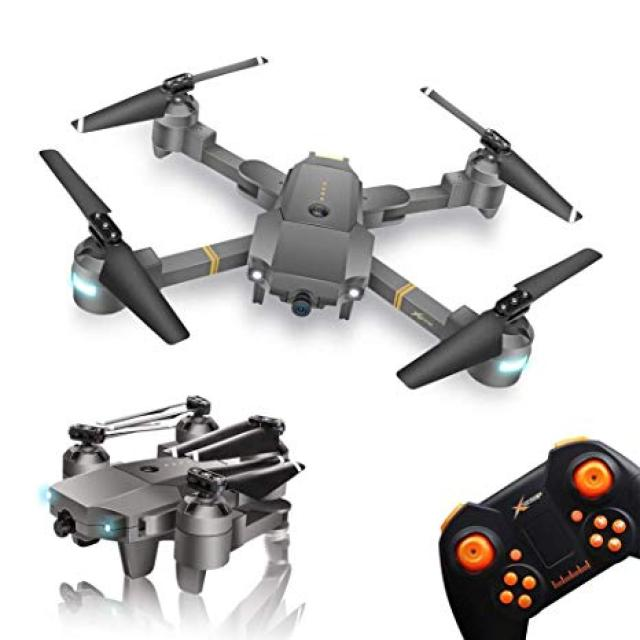drone: (28, 58, 590, 409)
